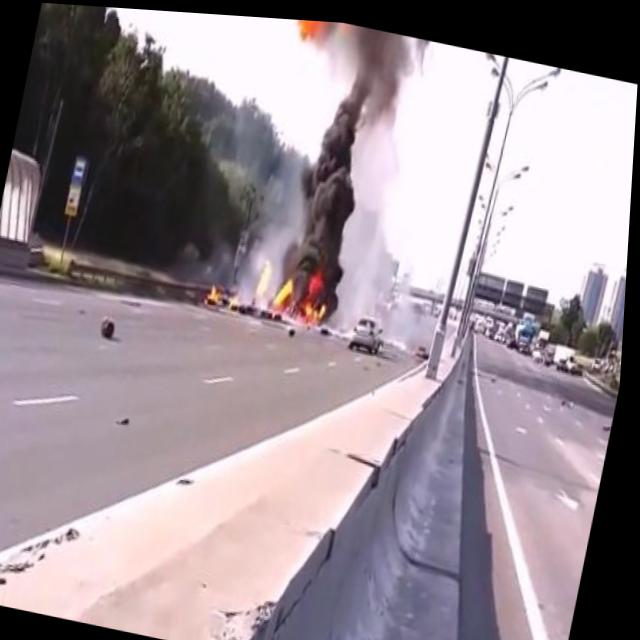fire: (250, 244, 340, 328), (288, 15, 353, 48), (203, 279, 246, 312)
